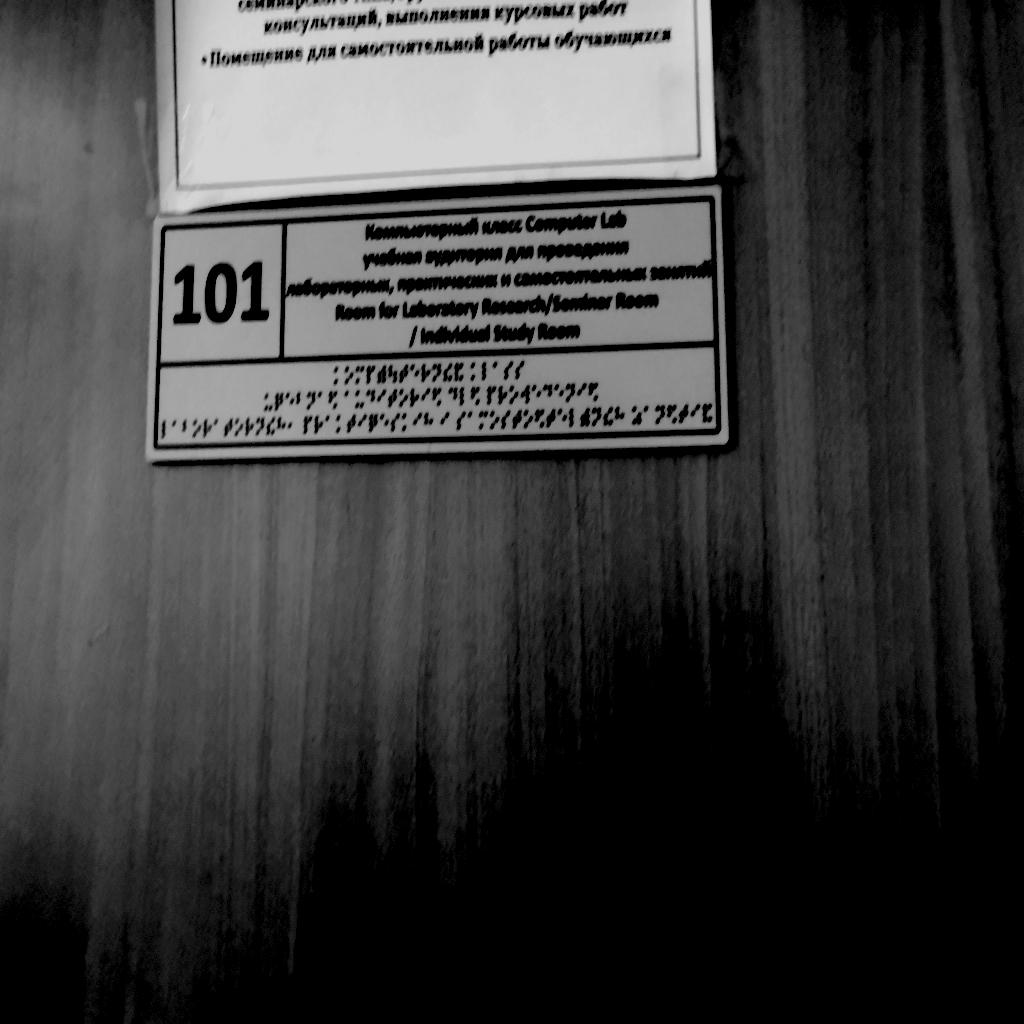_n: (655, 405, 665, 424), (432, 363, 441, 383), (566, 383, 575, 403), (592, 407, 601, 427), (256, 417, 264, 437), (307, 392, 315, 410)
_y: (355, 391, 365, 409), (264, 394, 273, 411)
a: (493, 362, 503, 381), (173, 420, 182, 440), (468, 411, 477, 431), (644, 406, 653, 426), (325, 415, 334, 434), (214, 419, 223, 437), (345, 391, 353, 409), (318, 392, 326, 409)
b: (183, 420, 192, 440), (296, 392, 305, 410)
ch: (369, 414, 378, 434), (275, 393, 284, 411)
d: (543, 384, 553, 403), (448, 388, 457, 406), (367, 390, 375, 408)
e: (554, 384, 564, 403), (380, 413, 389, 433), (558, 408, 567, 428), (411, 364, 420, 383), (532, 385, 541, 404), (286, 392, 294, 410)
i: (577, 383, 587, 403), (413, 412, 423, 432), (691, 404, 701, 424), (440, 412, 450, 431), (358, 413, 367, 434), (377, 389, 386, 407), (422, 388, 431, 406)
iKratkoe: (703, 403, 712, 423), (455, 362, 463, 381)
ii: (604, 407, 613, 425), (267, 417, 275, 437), (444, 363, 452, 381)
k: (334, 366, 344, 386), (471, 363, 480, 382), (336, 415, 345, 434), (403, 413, 412, 432)
l: (162, 419, 172, 440), (481, 362, 492, 381), (569, 408, 579, 428), (460, 388, 469, 406)
m: (479, 411, 488, 431), (355, 366, 364, 385)
myagkiy: (580, 408, 590, 427), (378, 366, 386, 383)
o: (345, 366, 354, 386), (399, 389, 408, 408), (193, 420, 202, 439), (490, 411, 499, 430), (524, 410, 533, 429), (235, 418, 243, 437), (510, 386, 518, 404)
p: (487, 386, 496, 405), (304, 416, 313, 435), (367, 365, 375, 384)
r: (314, 415, 323, 435), (410, 388, 419, 407), (203, 419, 212, 438), (245, 418, 254, 437), (421, 364, 430, 382), (498, 386, 507, 404)
s: (504, 361, 515, 380), (456, 412, 466, 432), (501, 410, 511, 430), (516, 361, 526, 380), (391, 413, 400, 433)
t: (400, 364, 409, 384), (347, 414, 356, 434), (513, 410, 522, 430), (547, 409, 556, 429), (679, 404, 688, 424), (389, 389, 398, 408), (224, 418, 233, 437)
u: (389, 365, 397, 383)
v: (521, 385, 530, 404)
x: (424, 412, 434, 432), (615, 407, 625, 426), (277, 416, 286, 436)
ya: (535, 409, 545, 429), (667, 405, 677, 424), (589, 382, 598, 402), (329, 391, 338, 410), (433, 388, 442, 407), (471, 387, 480, 406)
z: (632, 405, 642, 426)
zapyataya: (287, 416, 297, 436)
